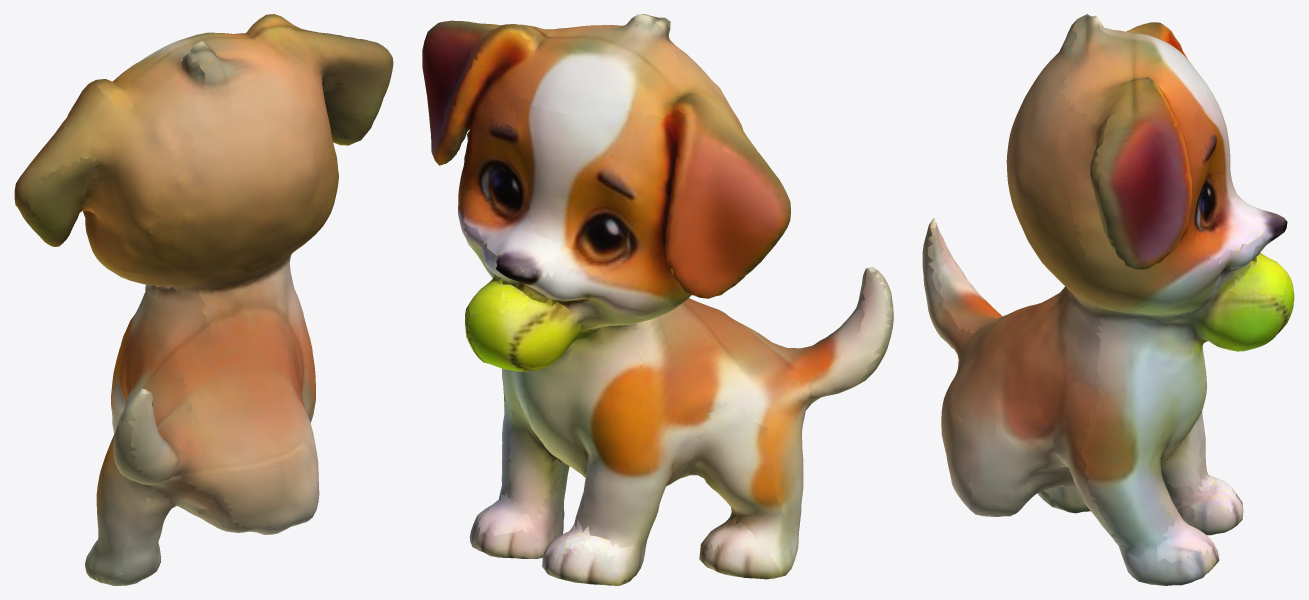
3 views of the same model, side by side, from view 1: azimuth 30°, elevation 25°; view 2: azimuth 150°, elevation 25°; view 3: azimuth 270°, elevation 25° (orthographic). The views are drawn at different scales.
Visible parts, largest first — view 1: world; view 2: world; view 3: world.
Boxes of the visible parts, x1,y1,x2,y2 form: world: (14, 14, 393, 585); world: (422, 14, 893, 585); world: (922, 14, 1294, 585).
Bounding box in the file's own units: 0.671 × 0.8994 × 0.5761.
1 material, 1 textured.
